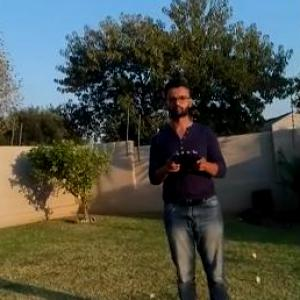follow: (143, 71, 238, 299)
